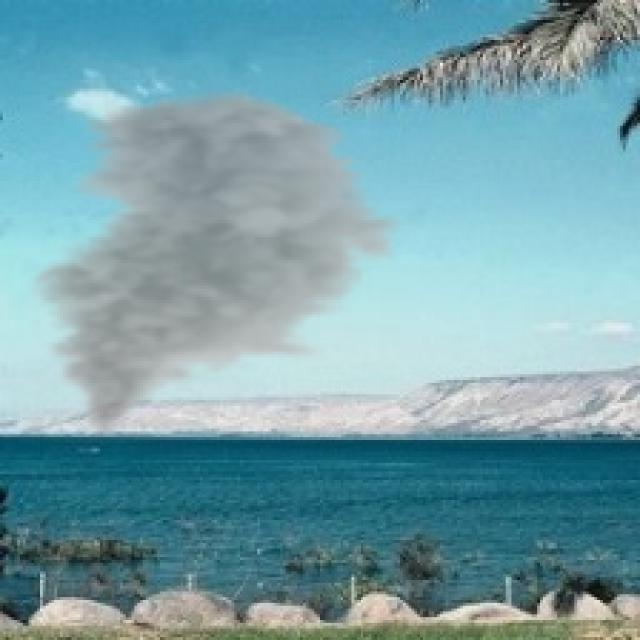smoke: (20, 86, 411, 437)
